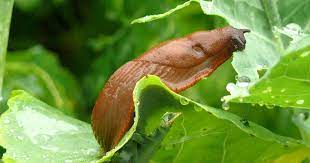slug: (101, 27, 247, 153)
